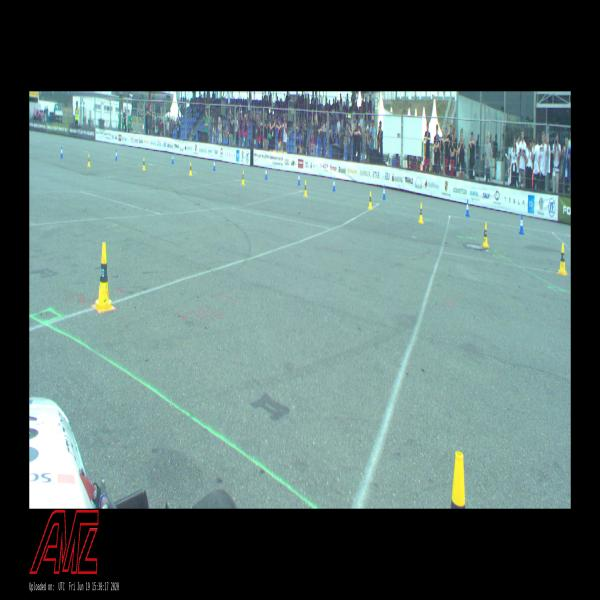blue_cone: (519, 214, 524, 234), (466, 200, 470, 216), (383, 184, 386, 200), (332, 177, 335, 191), (115, 150, 118, 160), (298, 172, 300, 185), (265, 168, 267, 179), (172, 152, 174, 163), (60, 147, 62, 157), (214, 159, 215, 170)
yellow_cone: (94, 243, 113, 312), (451, 452, 465, 509), (558, 244, 566, 274), (482, 222, 488, 248), (419, 203, 423, 223), (369, 192, 372, 209), (304, 180, 307, 196), (242, 171, 245, 184), (190, 163, 193, 176), (143, 158, 145, 170), (88, 155, 90, 166)
